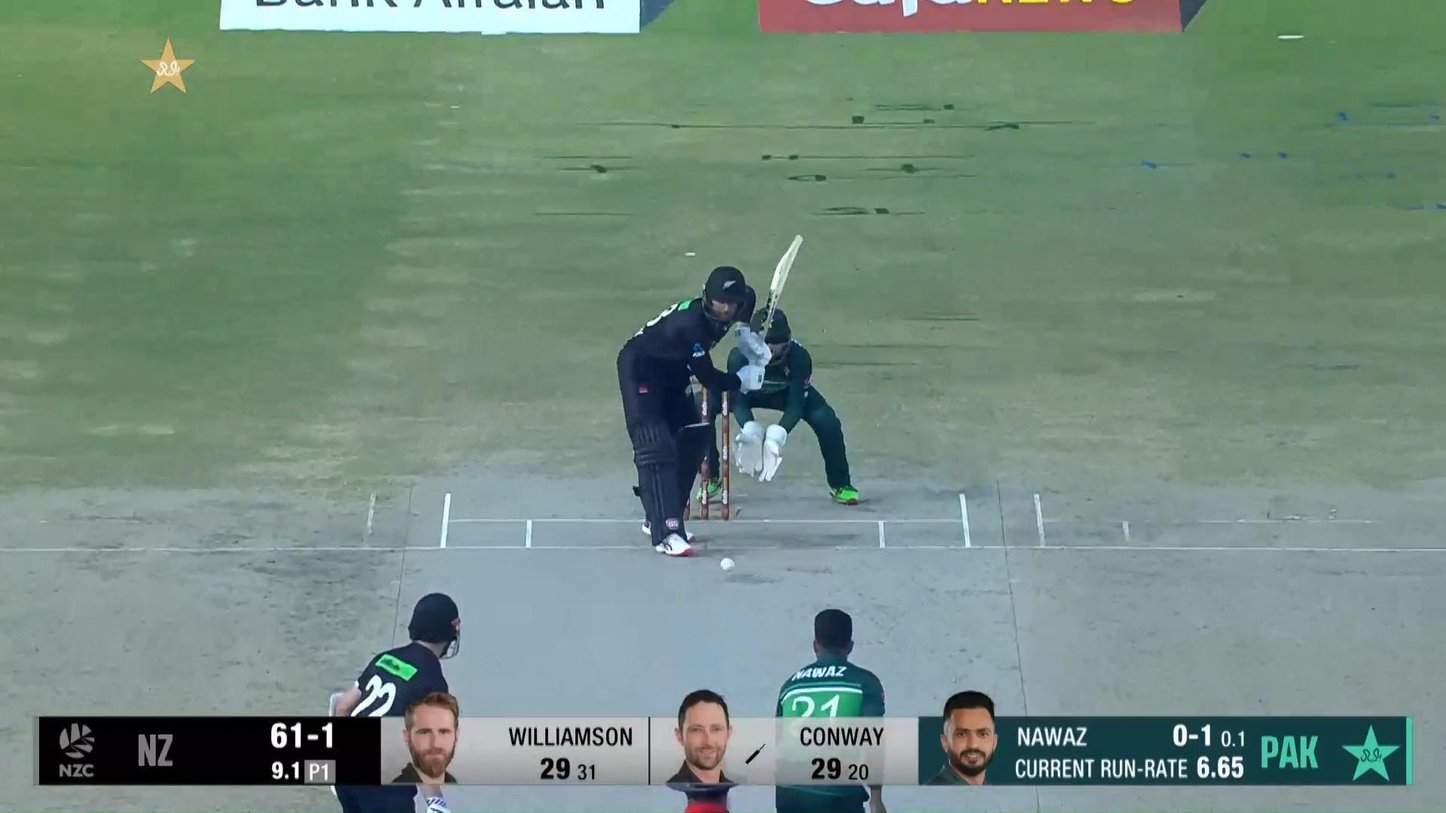BM 1: (616, 231, 806, 559)
BO: (773, 608, 889, 813)
